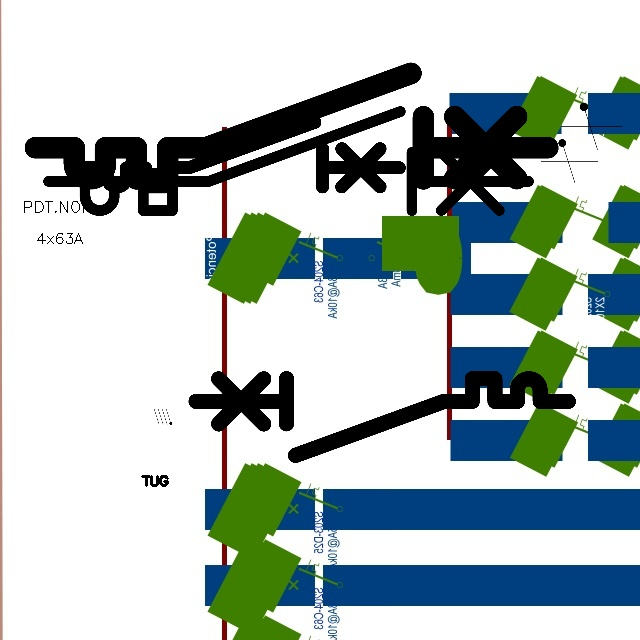interruptor_termomagnetico: (22, 60, 561, 192), (36, 99, 541, 223), (186, 369, 578, 465), (75, 114, 407, 195)
